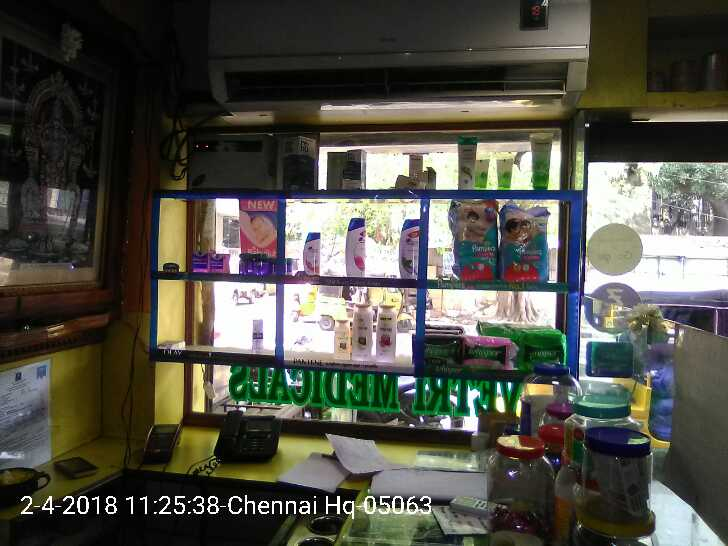vicks: (239, 252, 292, 274), (192, 251, 229, 273)
